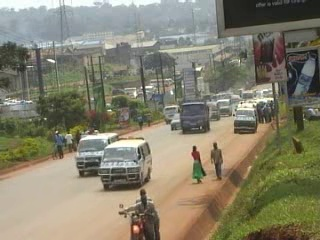Car: (170, 110, 180, 131)
Motorcycle: (117, 198, 160, 236)
